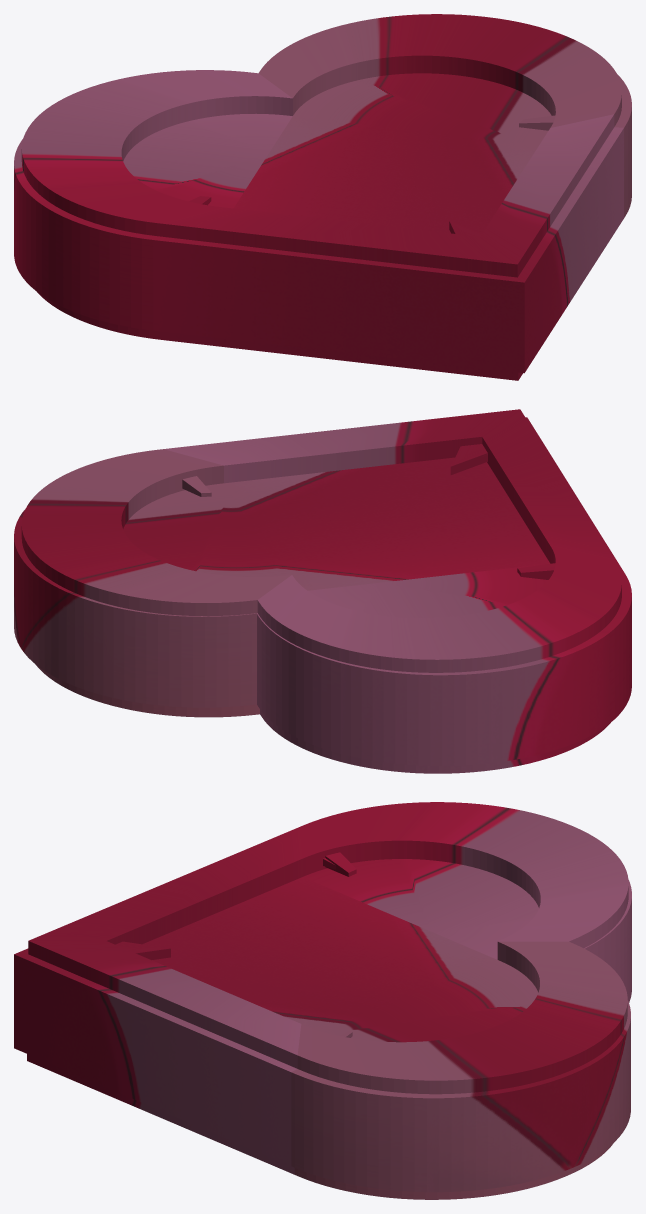
The model's file is Heart box.obj.
3 renders of one model, top to bottom at view 1: azimuth 30°, elevation 25°; view 2: azimuth 150°, elevation 25°; view 3: azimuth 270°, elevation 25°, orthographic. The views are drawn at different scales.
Parts seen in each view (by area): view 1: Heart_2_Cube.001, Heart_1_Cube; view 2: Heart_2_Cube.001, Heart_1_Cube; view 3: Heart_2_Cube.001, Heart_1_Cube.
Part boxes in pixels (x1,y1,x2,y2): Heart_2_Cube.001: [14, 14, 631, 373]; Heart_1_Cube: [37, 292, 522, 380]; Heart_2_Cube.001: [14, 409, 631, 765]; Heart_1_Cube: [35, 664, 610, 773]; Heart_2_Cube.001: [14, 802, 631, 1192]; Heart_1_Cube: [27, 1054, 613, 1199].
Bounding box in the file's own units: 3.57 × 0.6986 × 3.26.
Materials: 1 (1 with a texture image).
